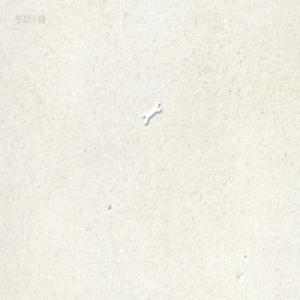Wrench: (142, 103, 162, 126)
